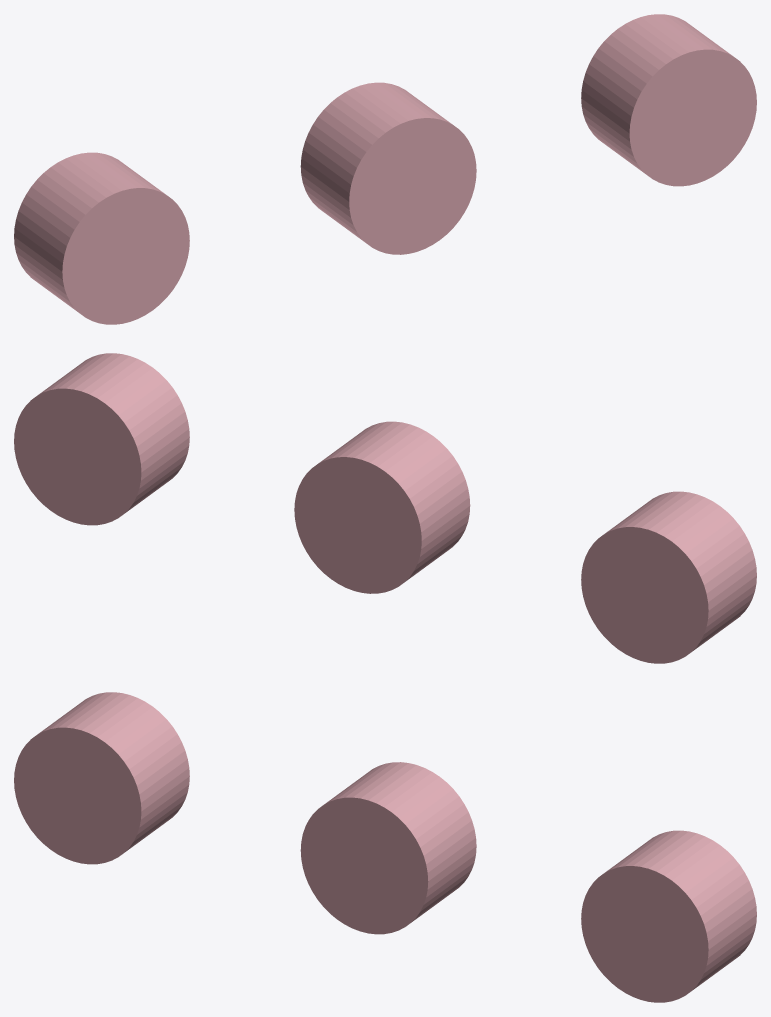
File: regional_position_settings_Pump1.slow.glb
3 views of the same model, one above another, from view 1: azimuth 30°, elevation 25°; view 2: azimuth 150°, elevation 25°; view 3: azimuth 330°, elevation 25° (orthographic).
Parts seen in each view (by area): view 1: world; view 2: world; view 3: world.
Part boxes in pixels (x1,y1,x2,y2): world: (14,14,756,324); world: (14,353,756,663); world: (14,692,756,1002).
Bounding box in the file's own units: 0.8284 × 0.1517 × 0.1.
